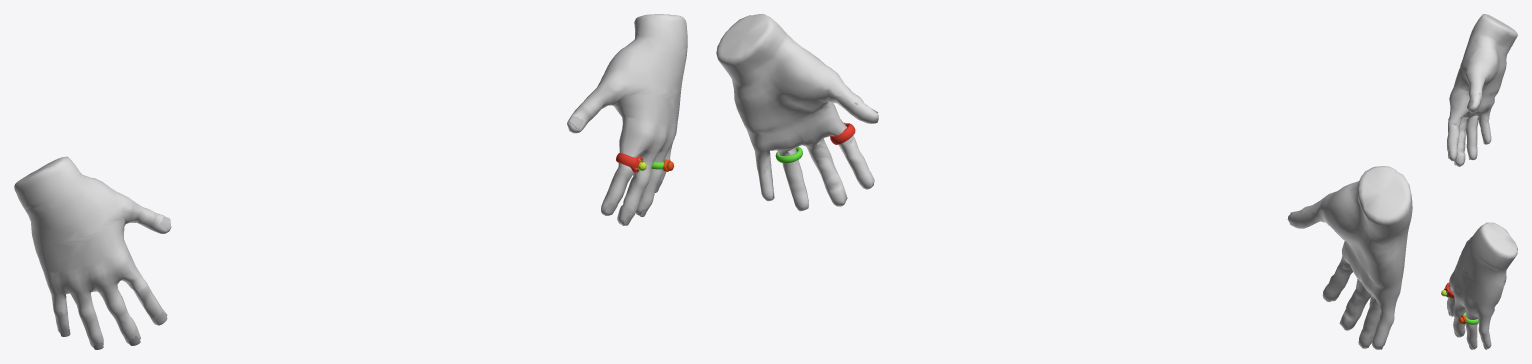
File: hands voor sub.fbx
3 views of the same model, side by side, from view 1: azimuth 30°, elevation 25°; view 2: azimuth 150°, elevation 25°; view 3: azimuth 270°, elevation 25° (orthographic). The views are drawn at different scales.
Visible parts, largest first — view 1: BSurfaceMesh.001, BSurfaceMesh; view 2: BSurfaceMesh, BSurfaceMesh.001; view 3: BSurfaceMesh.001, BSurfaceMesh, Torus, Torus.001.
Part boxes in pixels (x1=…): BSurfaceMesh.001: x1=14, y1=156, x2=171, y2=347; BSurfaceMesh: x1=567, y1=14, x2=687, y2=225; BSurfaceMesh: x1=716, y1=14, x2=878, y2=211; BSurfaceMesh.001: x1=1287, y1=166, x2=1412, y2=349; BSurfaceMesh.001: x1=1447, y1=14, x2=1517, y2=166; BSurfaceMesh: x1=1447, y1=222, x2=1517, y2=349; Torus: x1=1444, y1=282, x2=1454, y2=298; Torus.001: x1=1462, y1=312, x2=1478, y2=324.
Size of the model in its own units: 0.1321 by 0.0357 by 0.0186.
